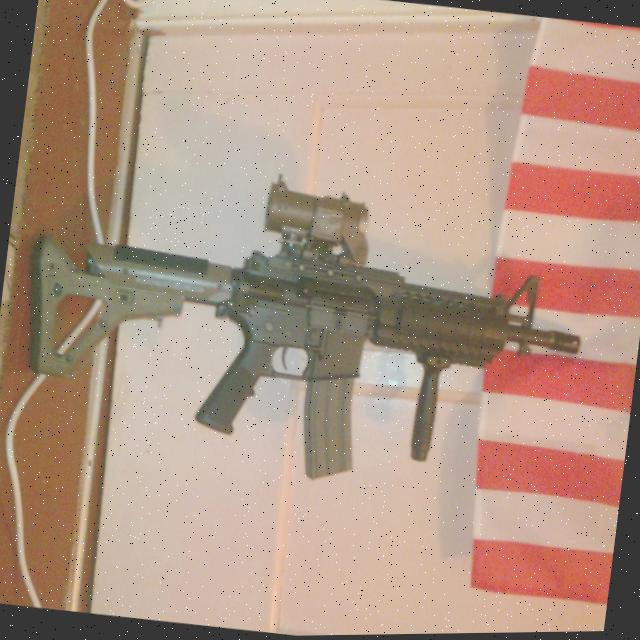firearm: (4, 141, 596, 515)
